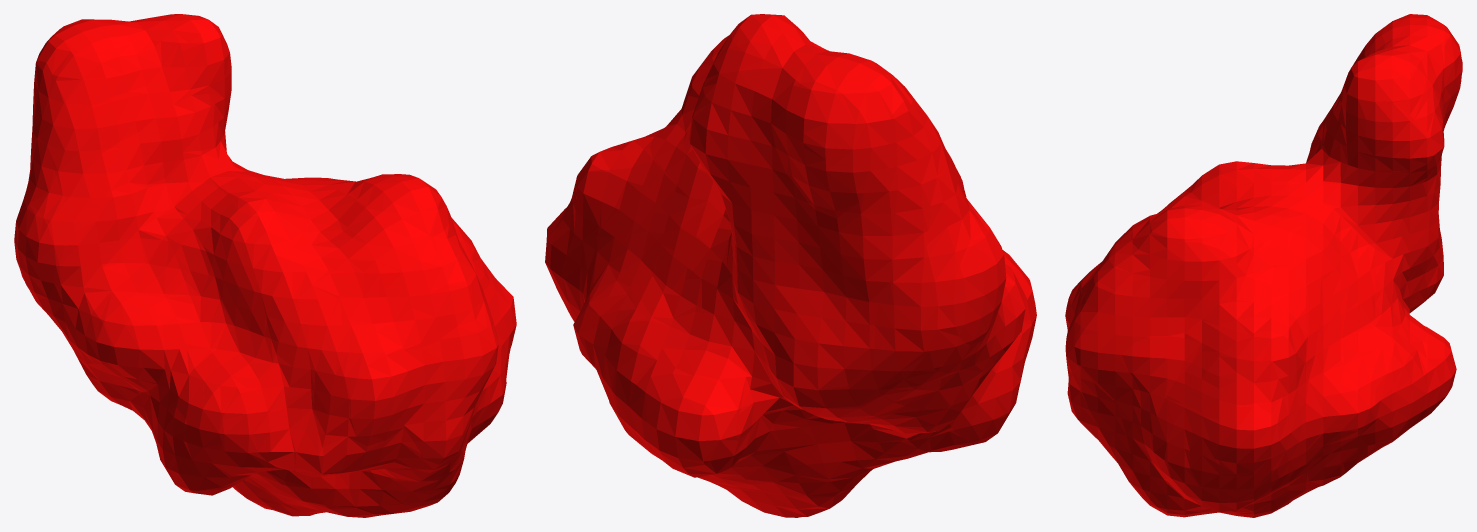
The model's file is ybiX_coarse.dae.
3 views of the same model, side by side, from view 1: azimuth 30°, elevation 25°; view 2: azimuth 150°, elevation 25°; view 3: azimuth 270°, elevation 25° (orthographic). The views are drawn at different scales.
Parts seen in each view (by area): view 1: ybiX; view 2: ybiX; view 3: ybiX.
Part boxes in pixels (box(x1,y1,x2,y2)): ybiX: box(14, 14, 516, 517); ybiX: box(545, 14, 1036, 517); ybiX: box(1065, 14, 1462, 517).
Size of the model in its own units: 54.97 by 57.13 by 47.94.
